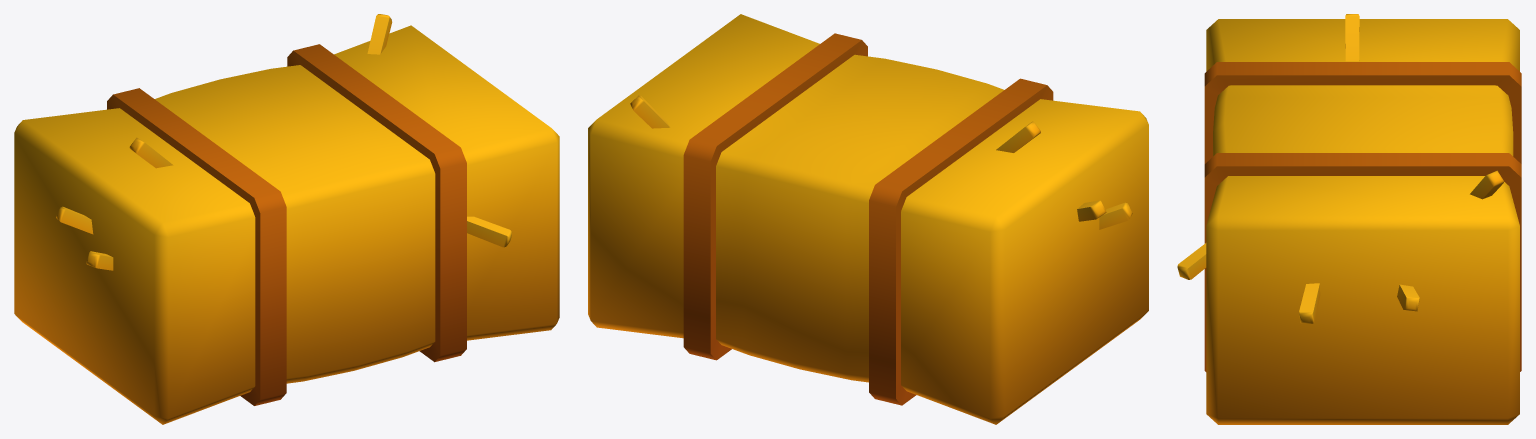
Rendered from Props_Hay_Bale_01.fbx.
3 views of the same model, side by side, from view 1: azimuth 30°, elevation 25°; view 2: azimuth 150°, elevation 25°; view 3: azimuth 270°, elevation 25° (orthographic). The views are drawn at different scales.
Visible parts, largest first — view 1: Props_Hay_Bale_01; view 2: Props_Hay_Bale_01; view 3: Props_Hay_Bale_01.
Part boxes in pixels (<box>): Props_Hay_Bale_01: <box>14,14,559,424</box>; Props_Hay_Bale_01: <box>588,14,1148,424</box>; Props_Hay_Bale_01: <box>1177,14,1521,424</box>.
Size of the model in its own units: 195 by 91.24 by 119.
